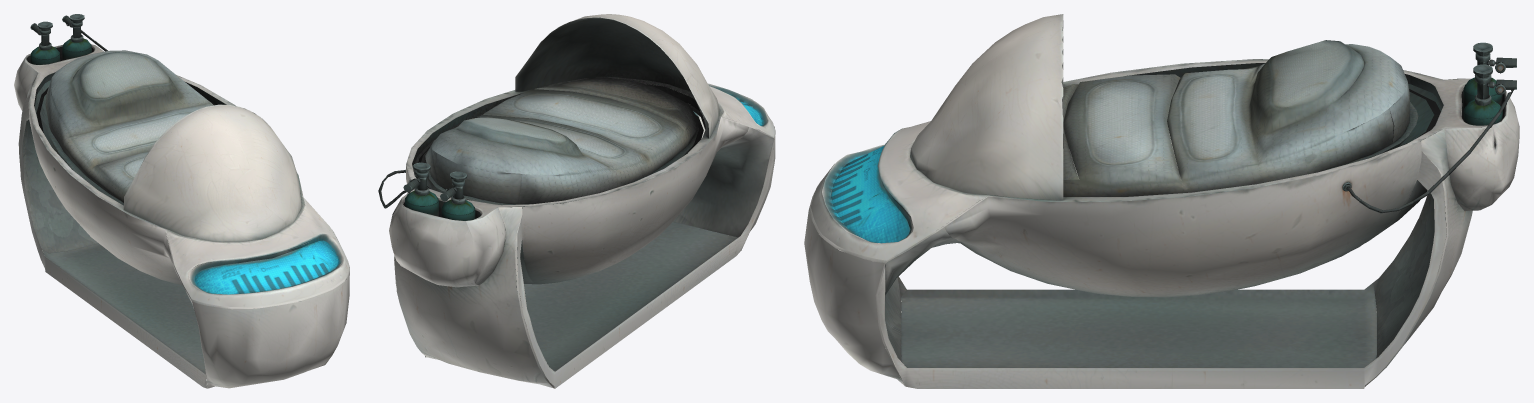
File: bed.glb
The picture shows the model from 3 angles, left to right: view 1: azimuth 30°, elevation 25°; view 2: azimuth 150°, elevation 25°; view 3: azimuth 270°, elevation 25°; orthographic projection. The views are drawn at different scales.
Parts seen in each view (by area): view 1: bed; view 2: bed; view 3: bed.
Boxes of the visible parts, x1,y1,x2,y2 form: bed: [14, 14, 349, 388]; bed: [378, 14, 775, 388]; bed: [804, 14, 1519, 388].
Bounding box in the file's own units: 0.8865 × 1 × 2.
Materials: 1 (1 with a texture image).
